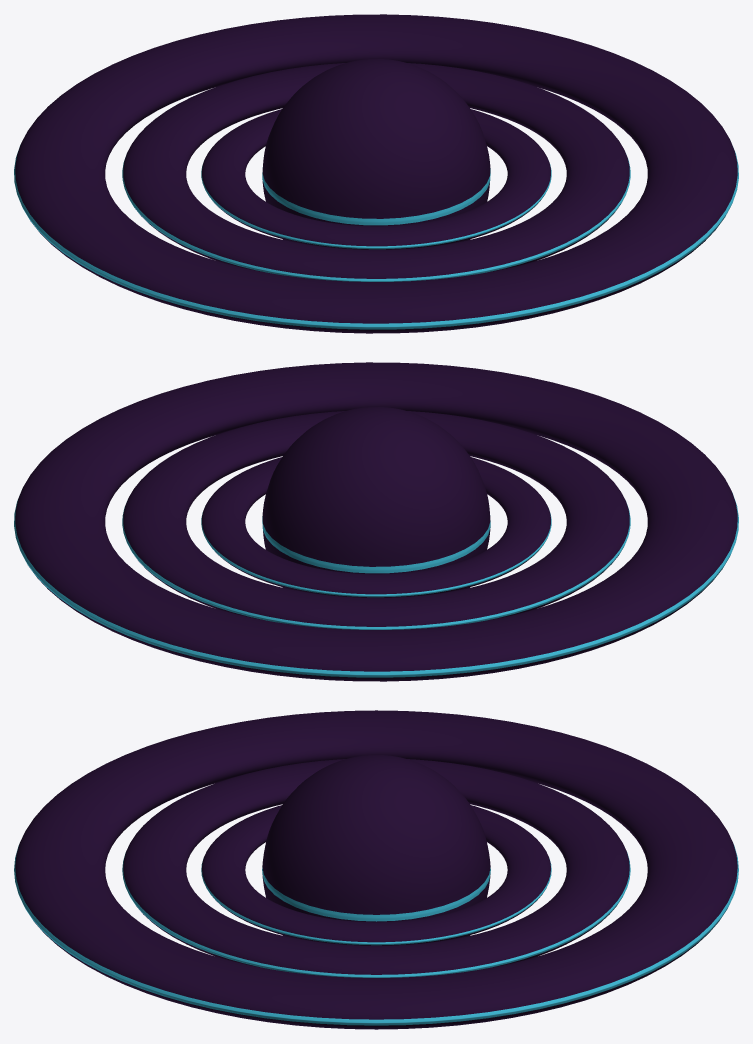
The model's file is trou_noir_export_3.fbx.
The picture shows the model from 3 angles, top to bottom: view 1: azimuth 30°, elevation 25°; view 2: azimuth 150°, elevation 25°; view 3: azimuth 270°, elevation 25°; orthographic projection.
Parts seen in each view (by area): view 1: pTorus5, pTorus4, pSphere1, pTorus1; view 2: pTorus5, pTorus4, pSphere1, pTorus1; view 3: pTorus5, pTorus4, pSphere1, pTorus1.
Boxes of the visible parts, bbox=[...] form: pTorus5: bbox=[14, 14, 738, 333]; pTorus4: bbox=[122, 63, 630, 281]; pSphere1: bbox=[262, 59, 490, 242]; pTorus1: bbox=[201, 109, 551, 249]; pTorus5: bbox=[14, 362, 738, 681]; pTorus4: bbox=[122, 411, 630, 629]; pSphere1: bbox=[262, 407, 490, 590]; pTorus1: bbox=[201, 457, 551, 597]; pTorus5: bbox=[14, 710, 738, 1029]; pTorus4: bbox=[122, 759, 630, 977]; pSphere1: bbox=[262, 755, 490, 937]; pTorus1: bbox=[201, 805, 551, 945].
Size of the model in its own units: 6.26 by 2 by 6.26.
